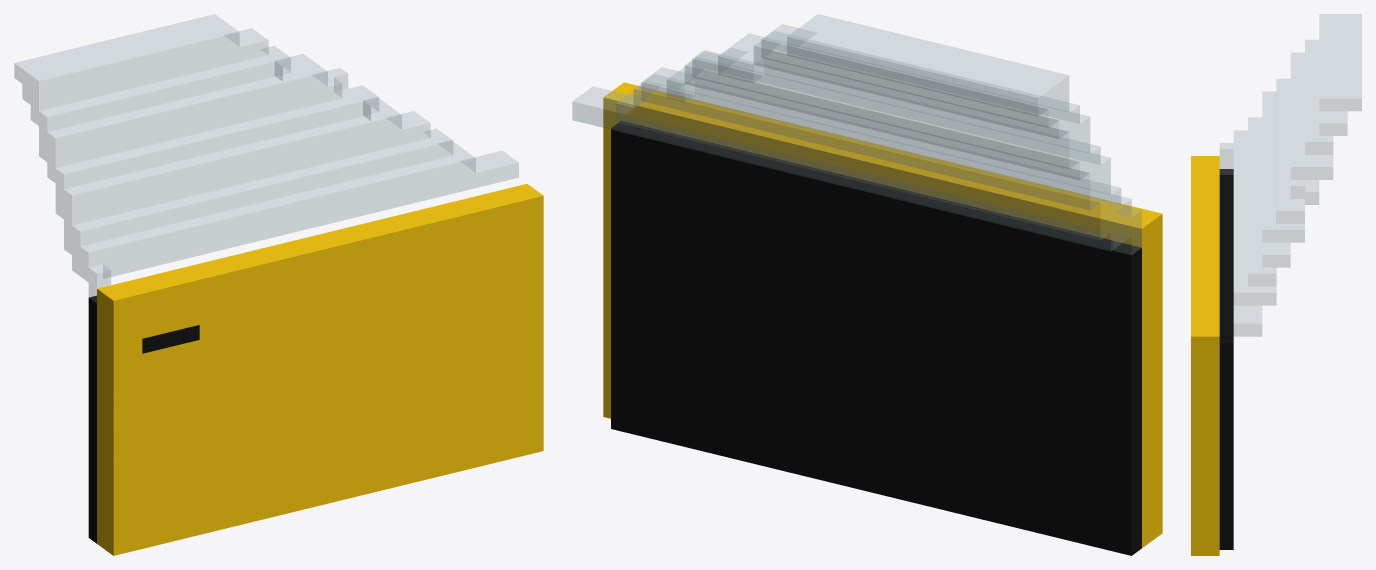
The model's file is sports_car_front_door.glb.
3 views of the same model, side by side, from view 1: azimuth 30°, elevation 25°; view 2: azimuth 150°, elevation 25°; view 3: azimuth 270°, elevation 25° (orthographic). The views are drawn at different scales.
Parts seen in each view (by area): view 1: body:compound; view 2: body:compound; view 3: body:compound.
Part boxes in pixels (x1=…): body:compound: x1=14, y1=14, x2=543, y2=555; body:compound: x1=572, y1=14, x2=1162, y2=555; body:compound: x1=1191, y1=14, x2=1361, y2=555.
Size of the model in its own units: 0.9375 by 0.875 by 0.375.
